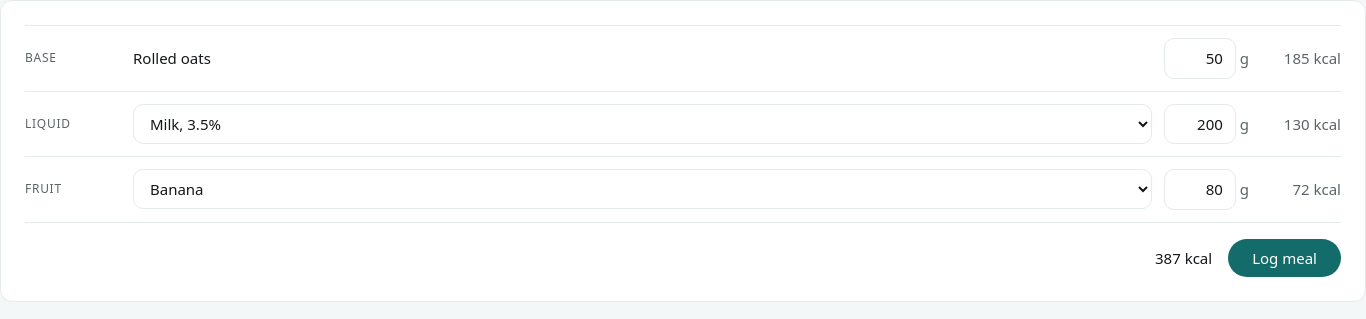
Test case: MealBuilder › resets to the defaults after logging
Replace the text in the field named "Grams of Base" with "75" at (1200,58), box 1164,38 -> 1236,78
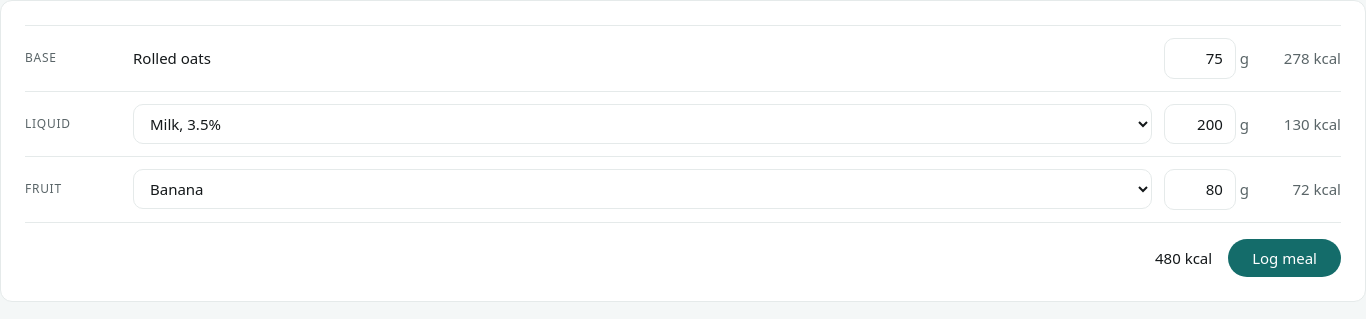
Click the button "Log meal".
click(1285, 258)  # box 1228,238 -> 1341,277
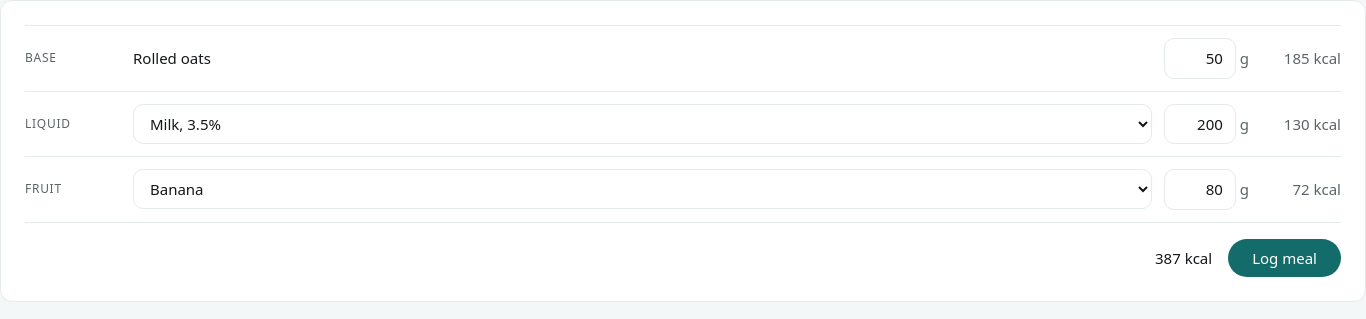
Expected: the field named "Grams of Base" holds "50", 1164,38 -> 1236,78
